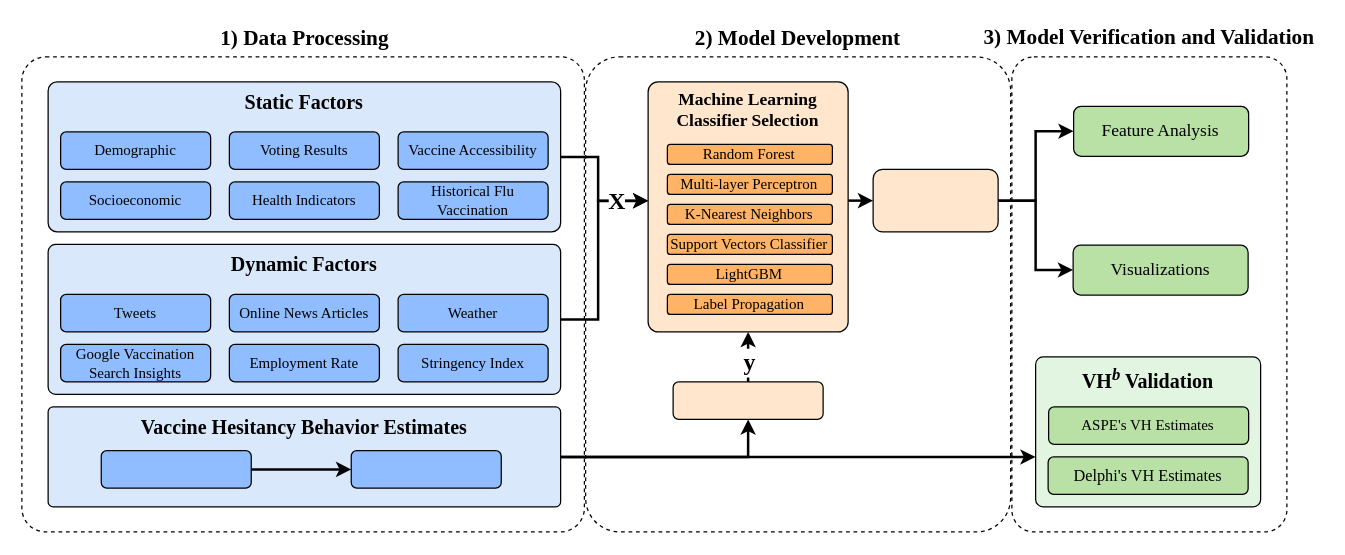
Some shapes in this 1345 by 555 pixel diagram are drawn without their labels. The shapes that lost their labels are listed below. From the top down, each one's centre as x and y in pixels, then its label:
(935,200): Extract Feature Importance
(747,400): Clustering
(175,468): Vaccination Uptake
(425,468): VH b
